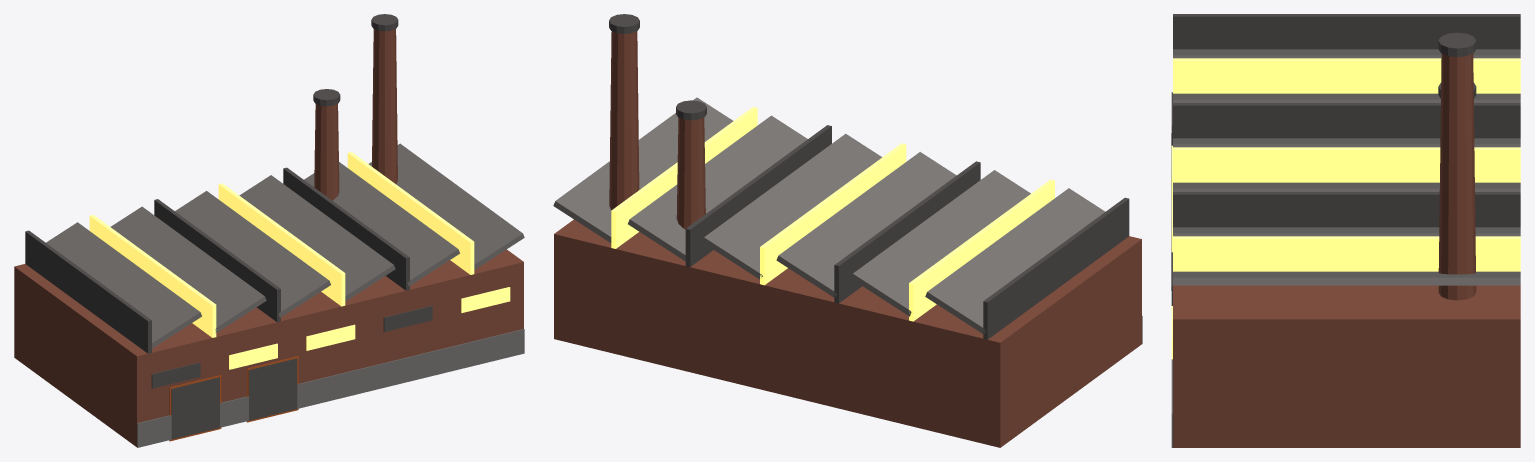
The model's file is factory_hall_script.glb.
The picture shows the model from 3 angles, left to right: view 1: azimuth 30°, elevation 25°; view 2: azimuth 150°, elevation 25°; view 3: azimuth 270°, elevation 25°; orthographic projection. The views are drawn at different scales.
Parts seen in each view (by area): view 1: Cube, Cube.001, Cube.005, Cube.009, Cube.007, Cube.003, Cube.013, Cube.011, Cube.002, Cone, Cube.008, Cube.004 (+11 smaller); view 2: Cube, Cube.003, Cube.007, Cube.005, Cube.009, Cube.011, Cube.002, Cube.013, Cone, Cube.010, Cube.006, Cube.008 (+3 smaller); view 3: Cube, Cube.002, Cube.004, Cube.006, Cube.008, Cube.010, Cube.012, Cone, Cube.013, Cube.003, Cube.007, Cube.005 (+3 smaller).
Part boxes in pixels (<box>): Cube: <box>14,249,523,446</box>; Cube.001: <box>137,329,524,447</box>; Cube.005: <box>111,206,266,333</box>; Cube.009: <box>239,175,395,301</box>; Cube.007: <box>175,191,330,317</box>; Cube.003: <box>46,222,201,348</box>; Cube.013: <box>368,143,524,269</box>; Cube.011: <box>304,162,459,286</box>; Cube.002: <box>25,230,151,353</box>; Cone: <box>372,29,397,183</box>; Cube.008: <box>218,183,345,306</box>; Cube.004: <box>89,215,216,337</box>; Cube: <box>554,219,1141,447</box>; Cube.003: <box>925,188,1105,334</box>; Cube.007: <box>776,152,956,297</box>; Cube.005: <box>851,170,1030,316</box>; Cube.009: <box>702,133,882,279</box>; Cube.011: <box>628,115,807,261</box>; Cube.002: <box>983,197,1129,339</box>; Cube.013: <box>553,97,733,242</box>; Cone: <box>609,31,639,210</box>; Cube.010: <box>685,125,831,266</box>; Cube.006: <box>834,161,980,303</box>; Cube.008: <box>760,143,906,285</box>; Cube: <box>1173,285,1520,447</box>; Cube.002: <box>1173,14,1520,49</box>; Cube.004: <box>1173,58,1520,93</box>; Cube.006: <box>1173,103,1520,138</box>; Cube.008: <box>1173,147,1520,182</box>; Cube.010: <box>1173,192,1520,227</box>; Cube.012: <box>1173,236,1520,271</box>; Cone: <box>1438,53,1476,300</box>; Cube.013: <box>1173,271,1520,285</box>; Cube.003: <box>1173,49,1520,58</box>; Cube.007: <box>1173,138,1520,147</box>; Cube.005: <box>1173,93,1520,102</box>.
Size of the model in its own units: 40.07 by 26.75 by 22.11.
